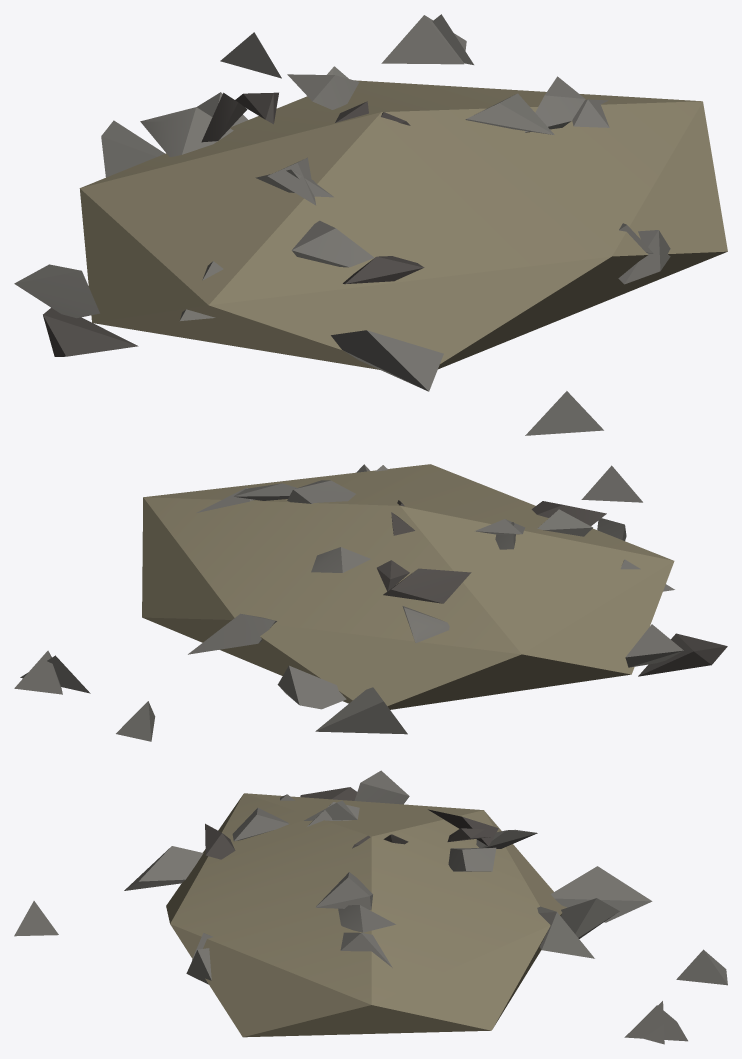
File: Scree.fbx
The picture shows the model from 3 angles, top to bottom: view 1: azimuth 30°, elevation 25°; view 2: azimuth 150°, elevation 25°; view 3: azimuth 270°, elevation 25°; orthographic projection. The views are drawn at different scales.
Visible parts, largest first — view 1: Scree; view 2: Scree; view 3: Scree.
Boxes of the visible parts, box(x1,y1,x2,y2) form: Scree: box(14, 14, 727, 435); Scree: box(14, 464, 727, 741); Scree: box(14, 770, 727, 1044).
Size of the model in its own units: 1.4 by 0.3068 by 1.69.
